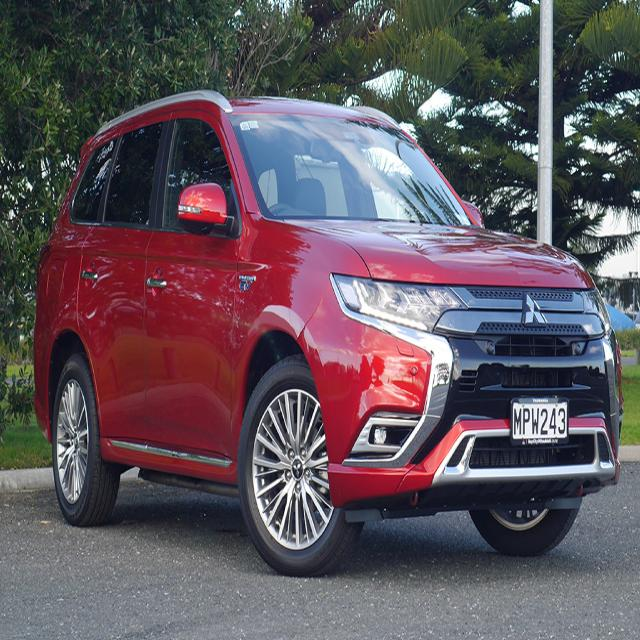light_vehicle: (33, 88, 623, 576)
